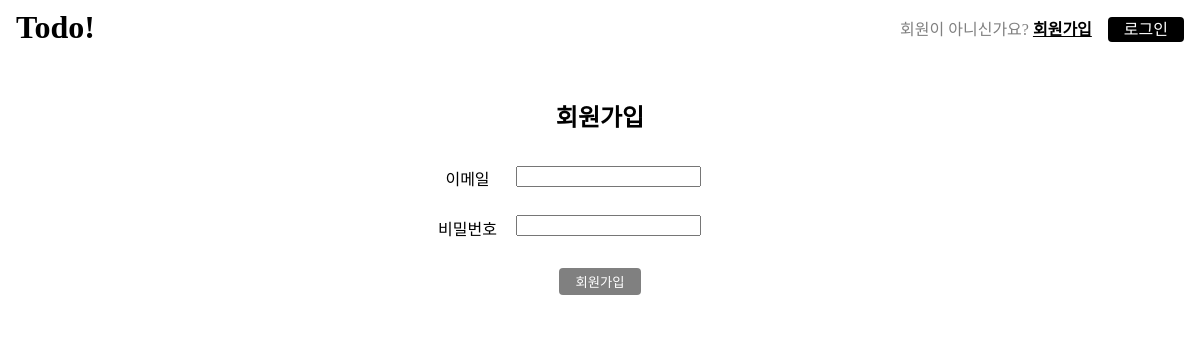
it: 회원가입 요청 실패시 에러메시지 출력
This screenshot has width=1201, height=344.
Type "test@@" into the field labelled "이메일" at (608, 176), box x1=516 y1=166 x2=700 y2=187
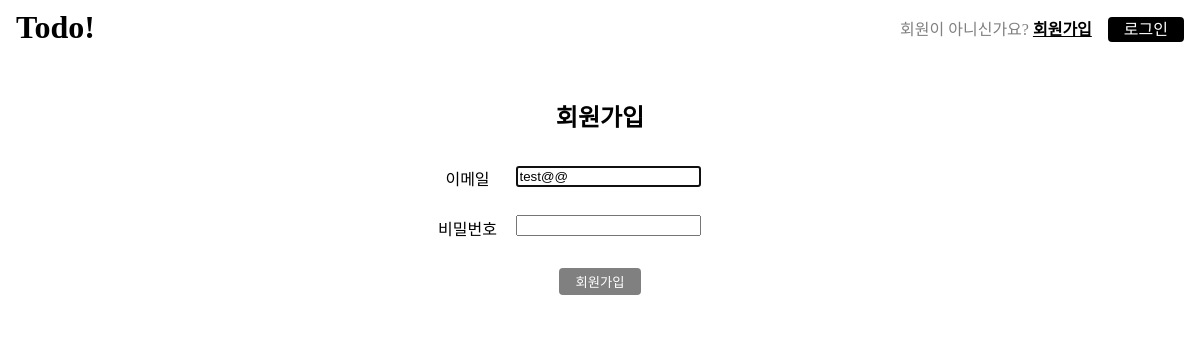
Type "12345678" into the password field labelled "비밀번호" at (608, 226), box x1=516 y1=215 x2=700 y2=236
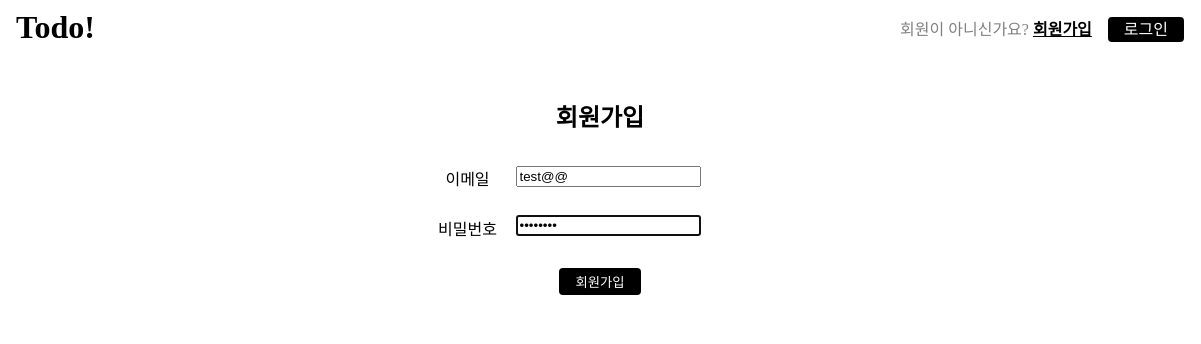
Click the button "회원가입" at (600, 282), box x1=560 y1=268 x2=641 y2=295
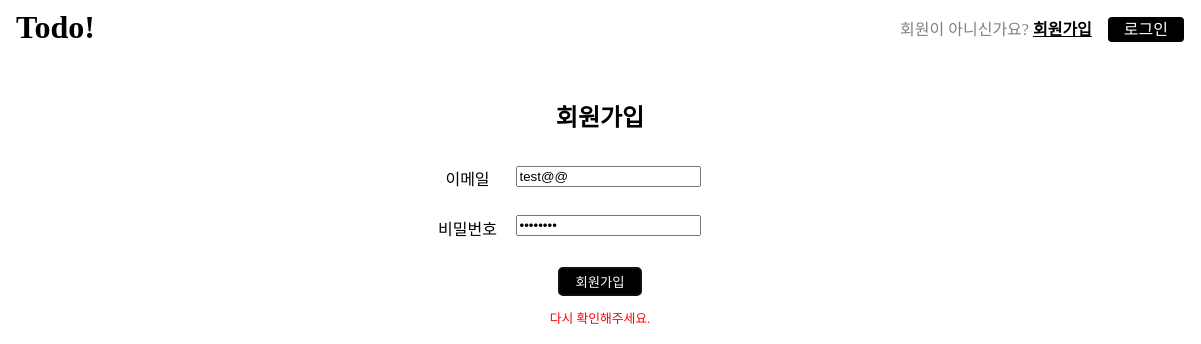
expect the text "다시 확인해주세요." is shown: met, box x1=550 y1=308 x2=650 y2=327
